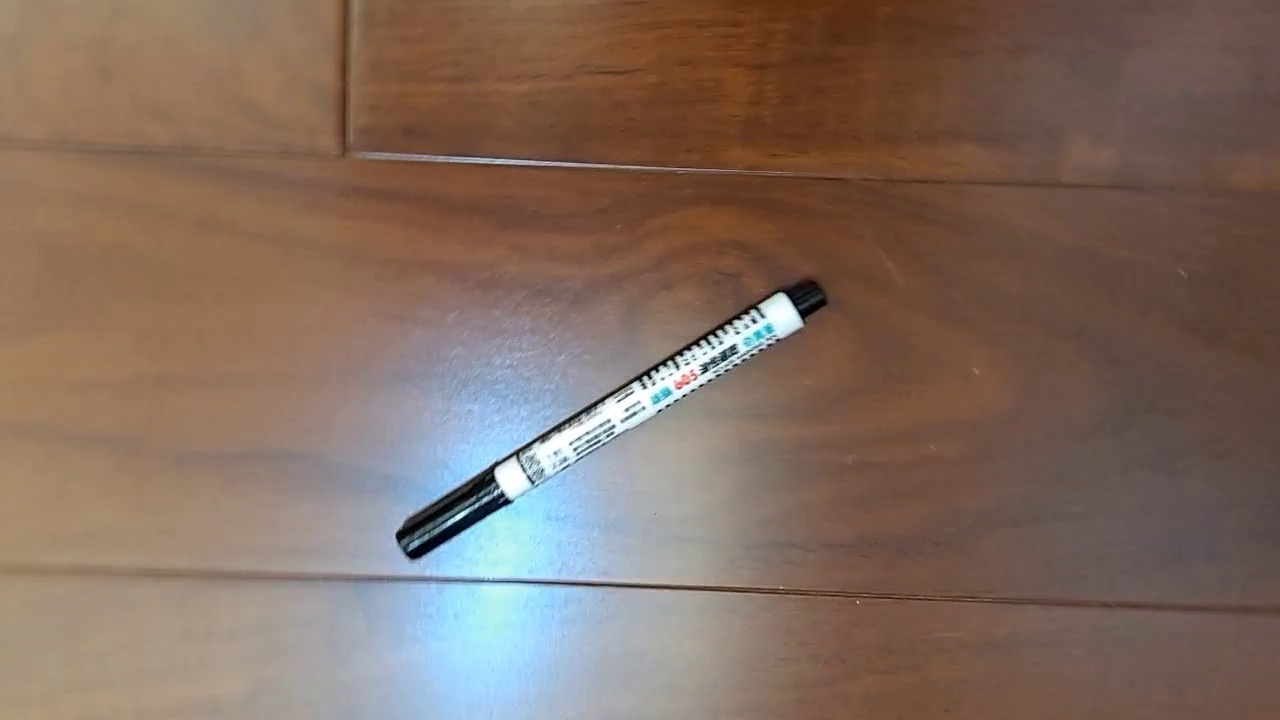pen: (395, 276, 829, 562)
